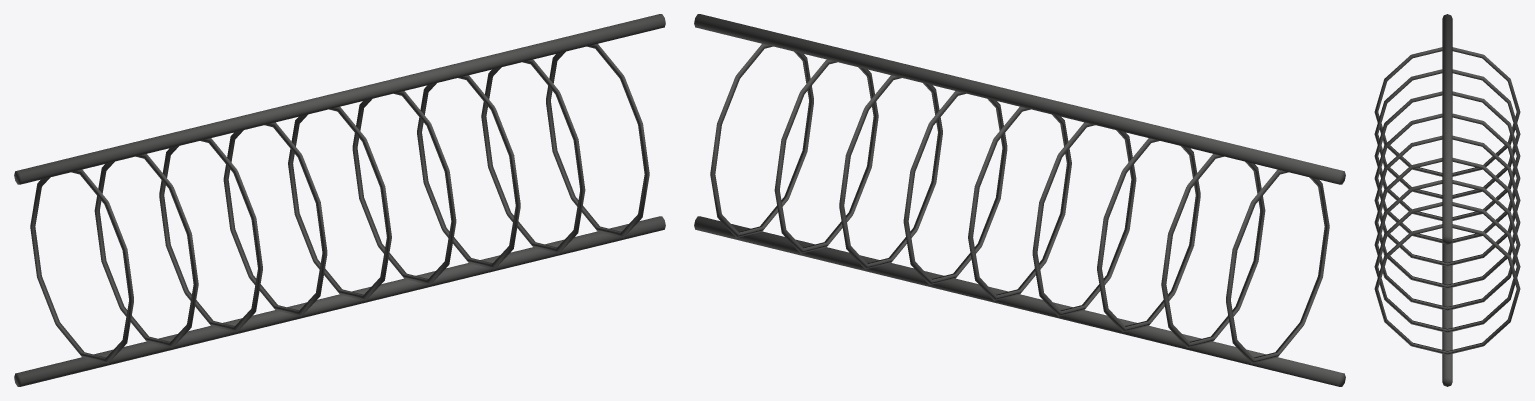
File: bike_holder.fbx
The picture shows the model from 3 angles, left to right: view 1: azimuth 30°, elevation 25°; view 2: azimuth 150°, elevation 25°; view 3: azimuth 270°, elevation 25°; orthographic projection. The views are drawn at different scales.
Parts seen in each view (by area): view 1: bike_holder; view 2: bike_holder; view 3: bike_holder.
Boxes of the visible parts, bbox=[...] form: bike_holder: bbox=[14, 14, 665, 386]; bike_holder: bbox=[694, 14, 1345, 386]; bike_holder: bbox=[1374, 14, 1520, 386].
Bounding box in the file's own units: 700 × 224 × 195.
